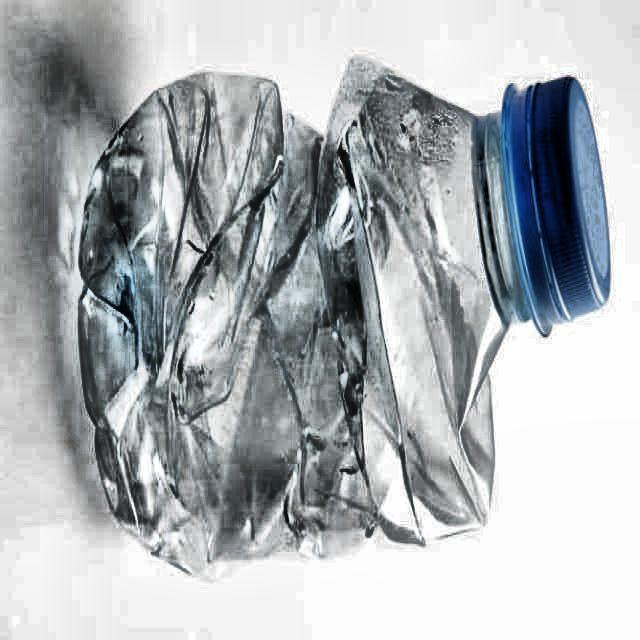plastic: (80, 59, 609, 568)
